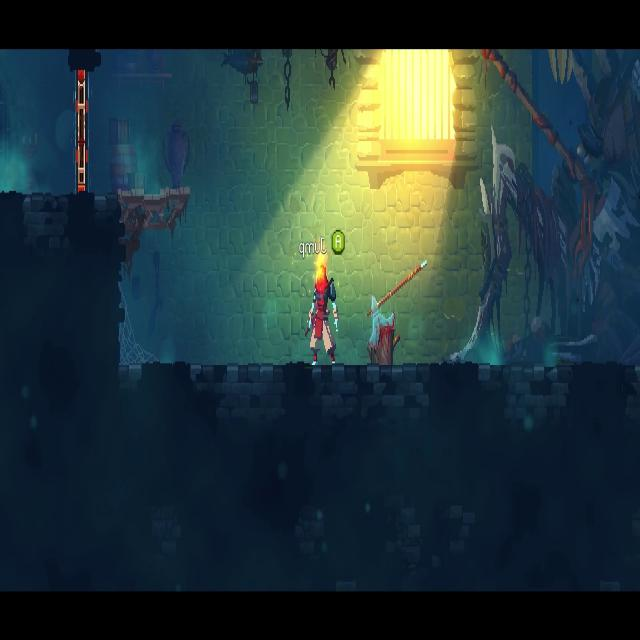agents: (306, 269, 336, 368)
door_regular: (78, 66, 86, 192)
wood_floor: (115, 186, 192, 237)
